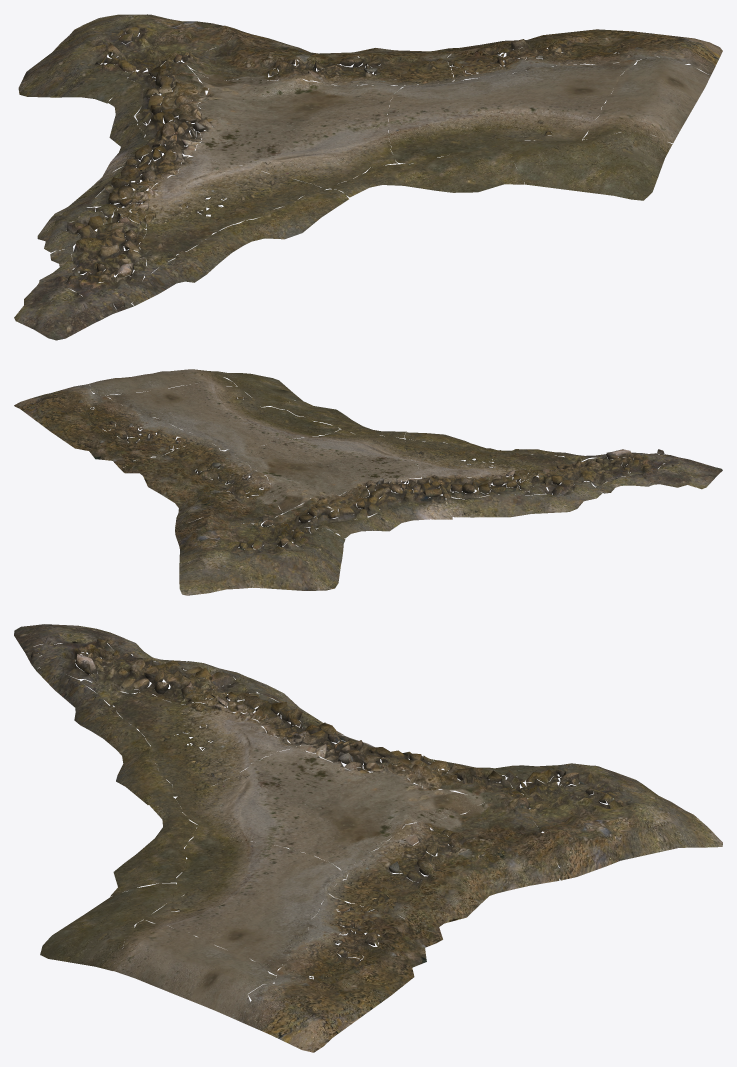
The model's file is kf_coast_rocks_a.glb.
The picture shows the model from 3 angles, top to bottom: view 1: azimuth 30°, elevation 25°; view 2: azimuth 150°, elevation 25°; view 3: azimuth 270°, elevation 25°; orthographic projection. The views are drawn at different scales.
Visible parts, largest first — view 1: coast_rocks_01; view 2: coast_rocks_01; view 3: coast_rocks_01.
Part boxes in pixels (x1,y1,x2,y2): coast_rocks_01: (14, 14, 722, 340); coast_rocks_01: (14, 369, 722, 595); coast_rocks_01: (14, 624, 722, 1052).
Size of what is drawn, in the model's own units: 59.51 by 3.27 by 42.52.
1 material, 1 textured.
